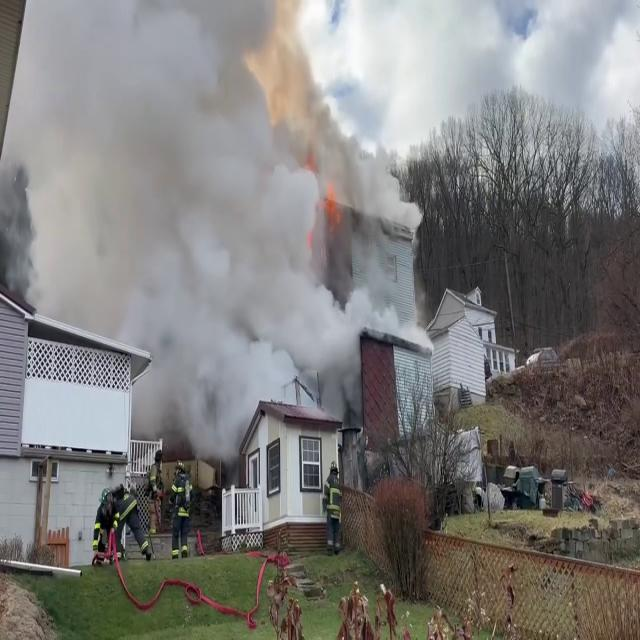Smoke: (20, 0, 430, 448), (0, 135, 48, 296)
